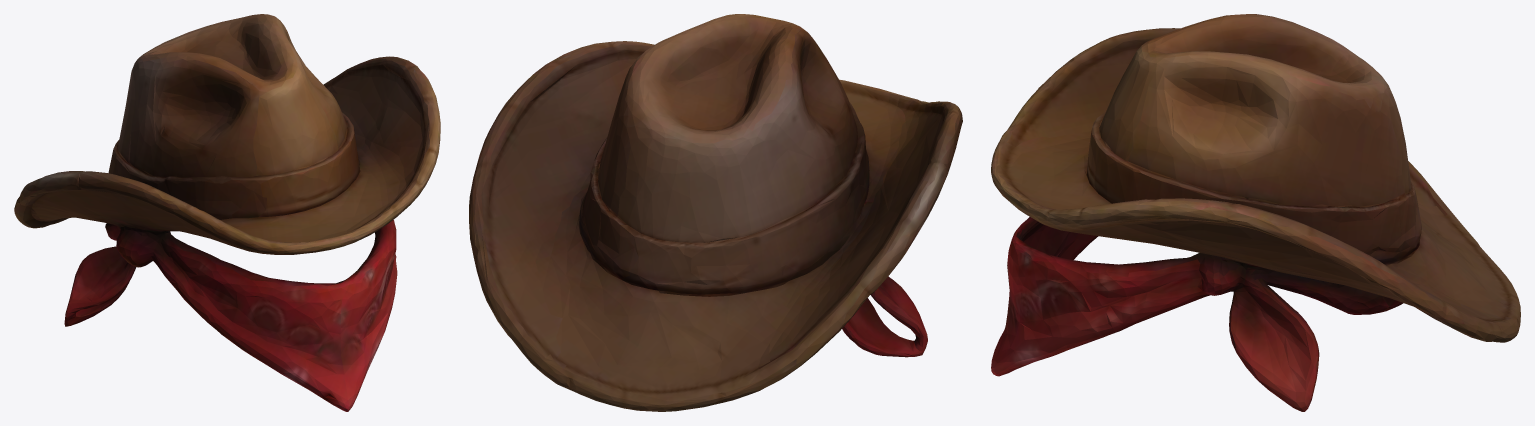
The model's file is cowboy_hat.glb.
3 renders of one model, left to right at view 1: azimuth 30°, elevation 25°; view 2: azimuth 150°, elevation 25°; view 3: azimuth 270°, elevation 25°, orthographic. The views are drawn at different scales.
Parts seen in each view (by area): view 1: geometry_0; view 2: geometry_0; view 3: geometry_0.
Part boxes in pixels (left/top/right/bottom): geometry_0: left=14, top=14, right=440, bottom=411; geometry_0: left=469, top=14, right=962, bottom=411; geometry_0: left=991, top=14, right=1520, bottom=411.
Size of the model in its own units: 0.4649 by 0.3541 by 0.5.
Materials: 1 (1 with a texture image).
